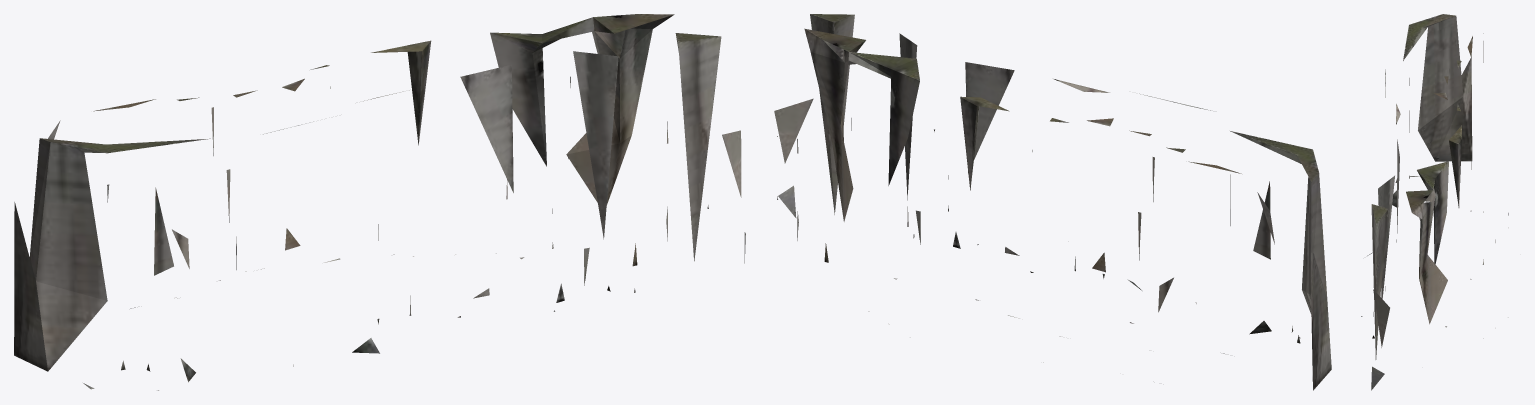
The model's file is limestone_cliff_lod1.glb.
3 views of the same model, side by side, from view 1: azimuth 30°, elevation 25°; view 2: azimuth 150°, elevation 25°; view 3: azimuth 270°, elevation 25° (orthographic). The views are drawn at different scales.
Visible parts, largest first — view 1: limestone_cliff_lod1; view 2: limestone_cliff_lod1; view 3: limestone_cliff_lod1.
Part boxes in pixels (left/top/right/bottom): limestone_cliff_lod1: left=14, top=14, right=745, bottom=390; limestone_cliff_lod1: left=774, top=14, right=1331, bottom=390; limestone_cliff_lod1: left=1361, top=14, right=1508, bottom=390.
Bounding box in the file's own units: 0.9578 × 0.3449 × 0.2962.
Materials: 1 (1 with a texture image).
